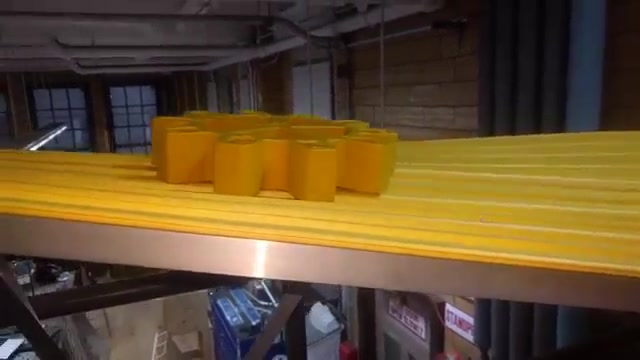gear: (137, 86, 409, 201)
